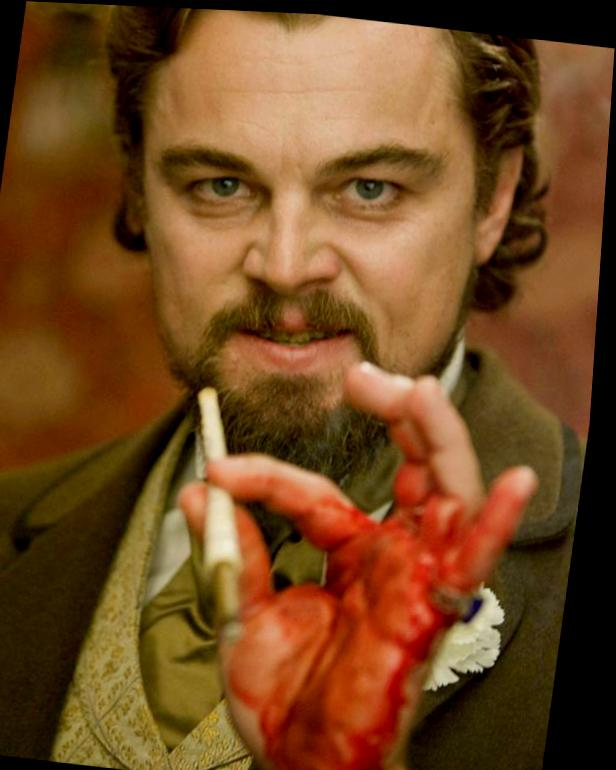Fire: (215, 358, 544, 770)
